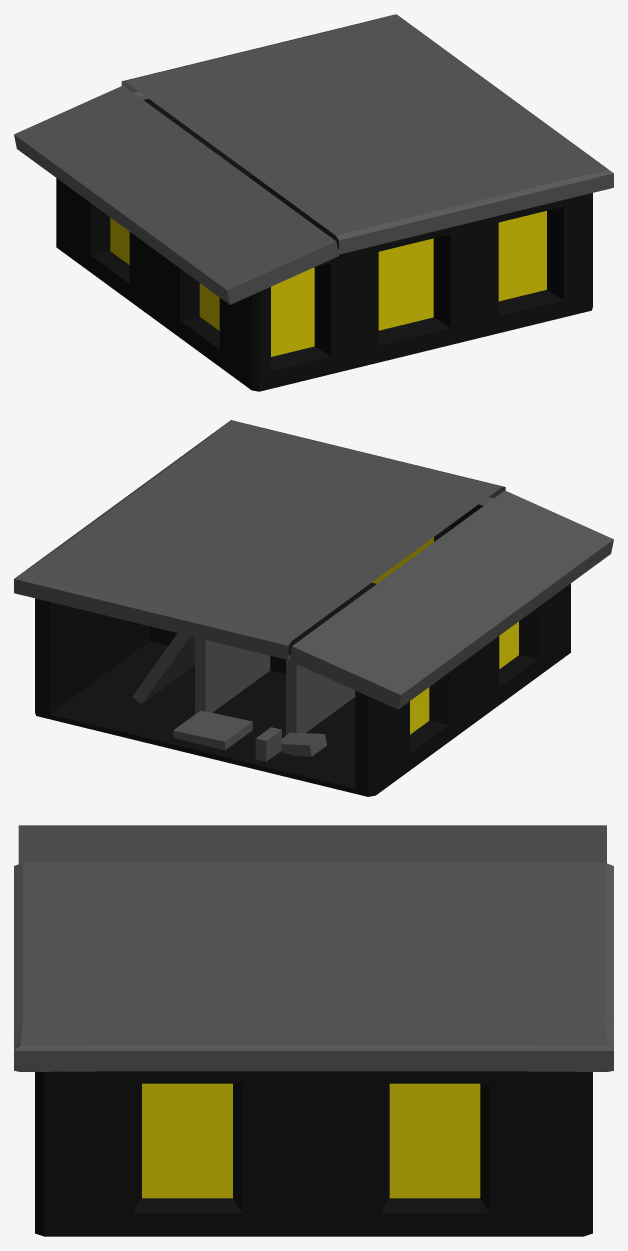
File: building_02.FBX
3 views of the same model, one above another, from view 1: azimuth 30°, elevation 25°; view 2: azimuth 150°, elevation 25°; view 3: azimuth 270°, elevation 25° (orthographic). The views are drawn at different scales.
Parts seen in each view (by area): view 1: Object010; view 2: Object010; view 3: Object010.
Boxes of the visible parts, x1,y1,x2,y2 form: Object010: [14, 14, 613, 391]; Object010: [14, 420, 613, 796]; Object010: [14, 825, 613, 1236].
Size of the model in its own units: 1417 by 498 by 1386.
